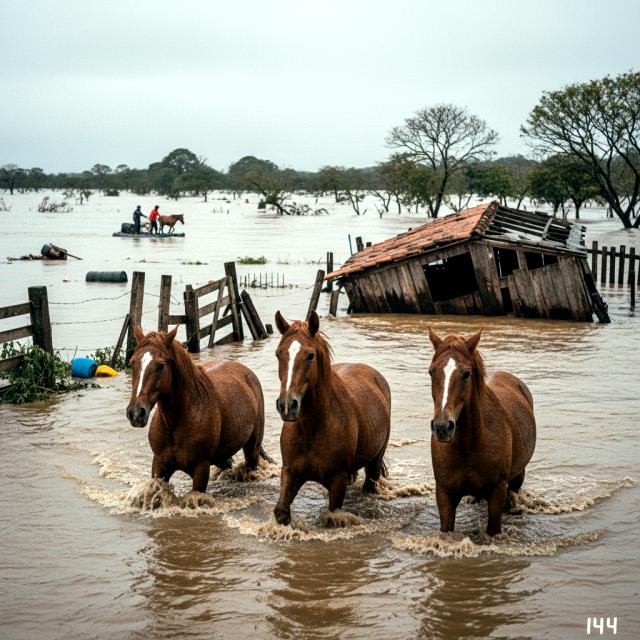civilian: (131, 204, 147, 234), (148, 205, 160, 234)
horse: (116, 322, 272, 516), (414, 322, 541, 552), (266, 306, 392, 532), (157, 213, 186, 235)
